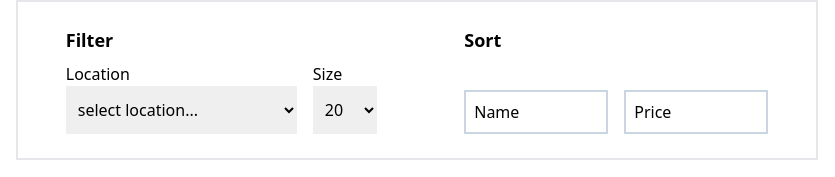
Test: <Toolbar /> behaviour › should update the sort button when sortByName is clicked
The width and height of the screenshot is (835, 177).
What coordinates should you click on to do the following:
click the button with test id "toolbar-sortby-name"
I would click on:
 (536, 112)
Its box is [464, 90, 608, 134].
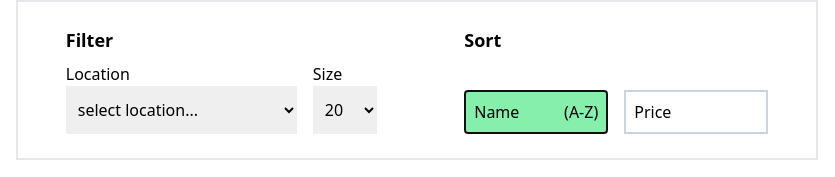
Result: the text "(A-Z)" is shown at [564, 100, 598, 124]
What coordinates should you click on to do the following:
click the button with test id "toolbar-sortby-name"
I would click on:
 (536, 112)
Its box is [464, 90, 608, 134].
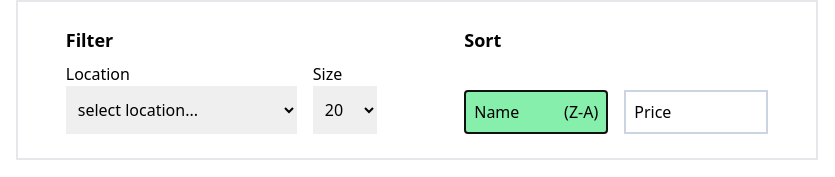
Result: the text "(Z-A)" is shown at [564, 100, 598, 124]
